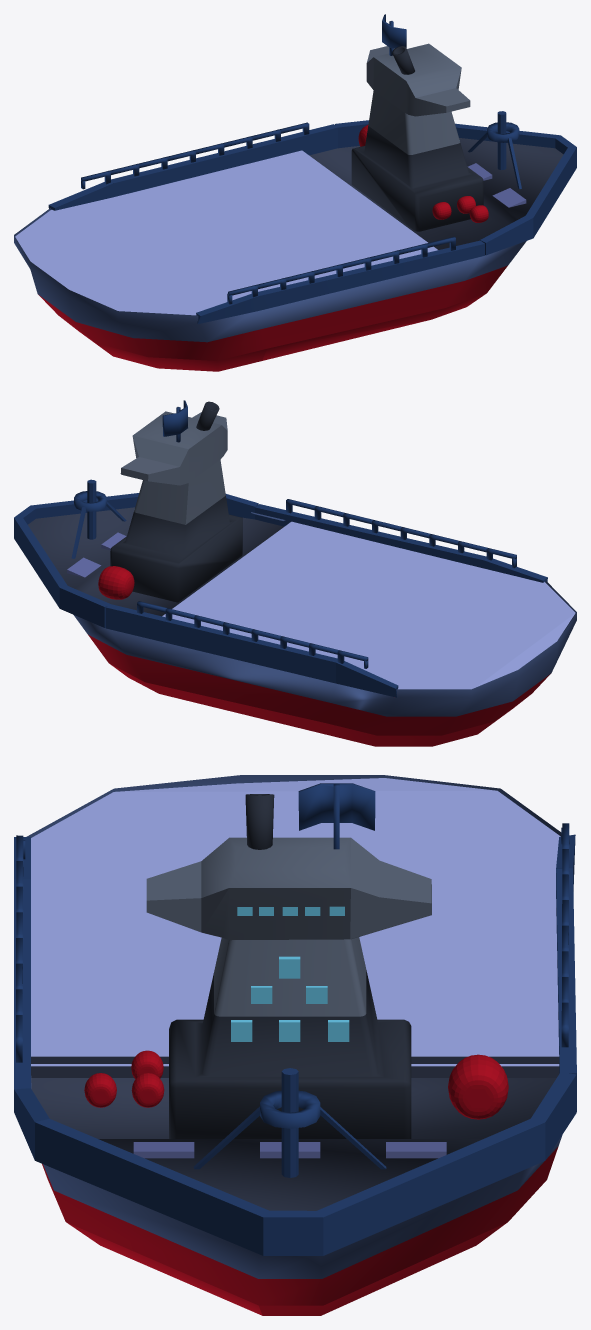
The model's file is ContainerShipVertical.fbx.
3 renders of one model, top to bottom at view 1: azimuth 30°, elevation 25°; view 2: azimuth 150°, elevation 25°; view 3: azimuth 270°, elevation 25°, orthographic. The views are drawn at different scales.
Visible parts, largest first — view 1: Plane.002, Plane.001, Plane, Plane.008, Cube, Cube.017, Plane.005, Plane.003, Cube.021, Cube.009, Cube.018, Cylinder (+1 smaller); view 2: Plane.002, Plane.001, Plane, Plane.008, Cube.017, Cube, Plane.005, Plane.004, Cube.021, Cube.009, Cylinder.005, Cube.018 (+2 smaller); view 3: Plane.002, Plane.001, Cube, Plane.005, Cube.017, Plane, Plane.008, Cube.018, Cylinder.005, Plane.004, Cylinder, Plane.003 (+10 smaller).
Part boxes in pixels (x1=…): Plane.002: x1=15, y1=150, x2=437, y2=315; Plane.001: x1=48, y1=120, x2=576, y2=323; Plane: x1=14, y1=208, x2=526, y2=342; Plane.008: x1=38, y1=265, x2=507, y2=360; Cube: x1=366, y1=43, x2=470, y2=154; Cube.017: x1=351, y1=126, x2=483, y2=231; Plane.005: x1=309, y1=138, x2=563, y2=249; Plane.003: x1=96, y1=293, x2=486, y2=371; Cube.021: x1=228, y1=236, x2=455, y2=297; Cube.009: x1=81, y1=122, x2=309, y2=184; Cube.018: x1=382, y1=14, x2=406, y2=55; Cylinder: x1=497, y1=111, x2=506, y2=169; Plane.002: x1=162, y1=521, x2=575, y2=689; Plane.001: x1=14, y1=493, x2=547, y2=697; Plane: x1=74, y1=512, x2=576, y2=716; Plane.008: x1=88, y1=634, x2=550, y2=735; Cube.017: x1=110, y1=495, x2=242, y2=602; Cube: x1=120, y1=411, x2=227, y2=524; Plane.005: x1=28, y1=507, x2=283, y2=616; Plane.004: x1=109, y1=663, x2=528, y2=746; Cube.021: x1=286, y1=499, x2=516, y2=560; Cube.009: x1=137, y1=601, x2=368, y2=663; Cylinder.005: x1=98, y1=566, x2=134, y2=599; Cube.018: x1=162, y1=400, x2=187, y2=442; Plane.002: x1=31, y1=778, x2=560, y2=1066; Plane.001: x1=14, y1=834, x2=576, y2=1255; Cube: x1=146, y1=837, x2=431, y2=1016; Plane.005: x1=31, y1=1056, x2=559, y2=1210; Cube.017: x1=169, y1=970, x2=411, y2=1138; Plane: x1=26, y1=775, x2=562, y2=1278; Plane.008: x1=42, y1=1146, x2=558, y2=1305; Cube.018: x1=298, y1=783, x2=375, y2=849; Cylinder.005: x1=448, y1=1054, x2=508, y2=1119; Plane.004: x1=259, y1=1222, x2=507, y2=1315; Cylinder: x1=281, y1=1068, x2=298, y2=1177; Plane.003: x1=67, y1=1222, x2=262, y2=1315.
Size of the model in its own units: 455 by 204 by 232.
